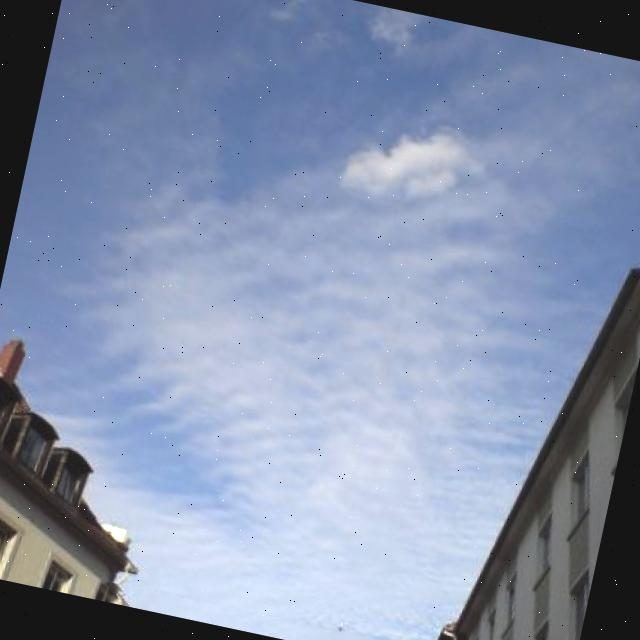Cc: (23, 59, 604, 530)
